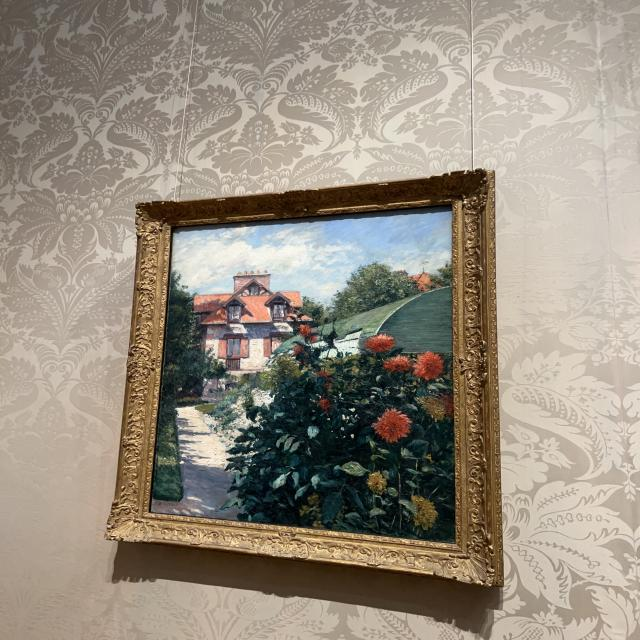summer: (150, 204, 455, 546)
